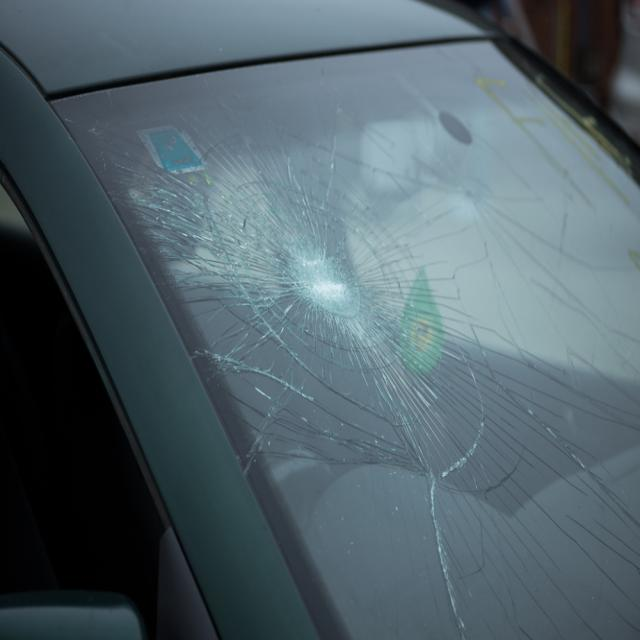Fissure: (411, 321, 640, 640), (194, 132, 424, 384), (425, 89, 640, 351), (201, 338, 500, 519), (55, 84, 196, 282)
